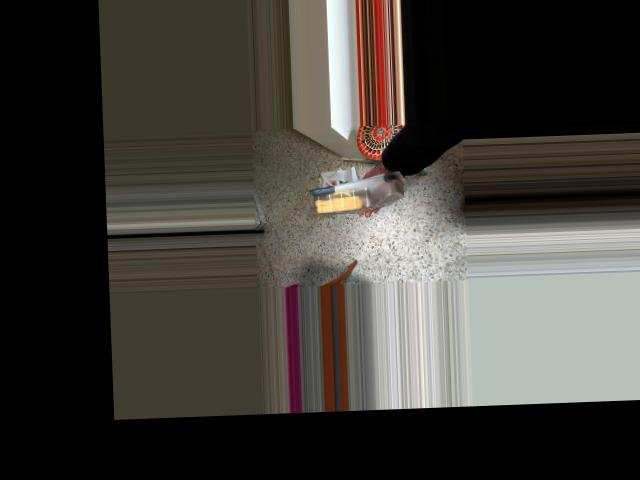cheese: (311, 171, 403, 217)
